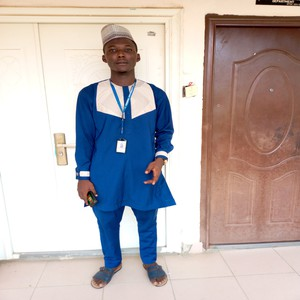Fulokoja_male_student: (76, 25, 172, 290)
